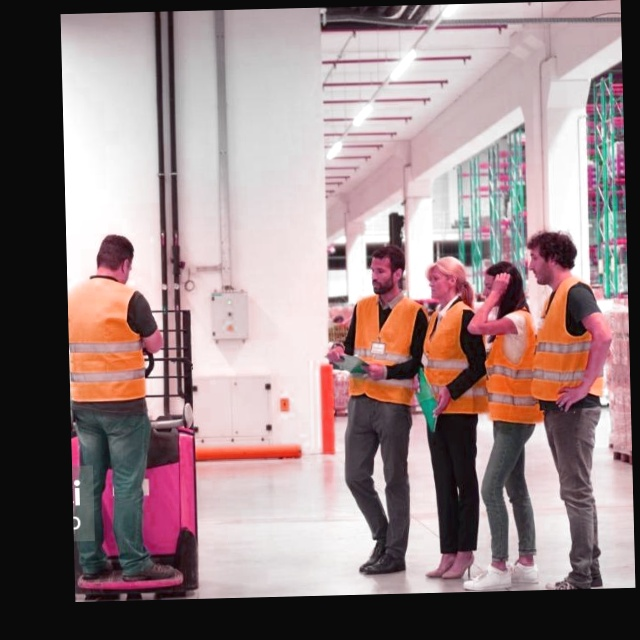Con_Chaleco: (67, 276, 148, 411), (532, 283, 606, 407), (347, 294, 420, 404), (419, 302, 481, 417), (480, 306, 537, 424)
Sin_Casco_Mascarrilla: (529, 229, 578, 285), (95, 234, 136, 279), (369, 245, 405, 296)
